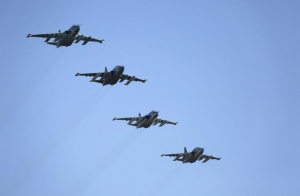flight: (26, 24, 104, 48), (75, 65, 147, 87), (112, 109, 178, 129), (160, 146, 222, 165)
